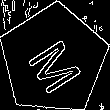M_NE: (21, 27, 87, 92)
